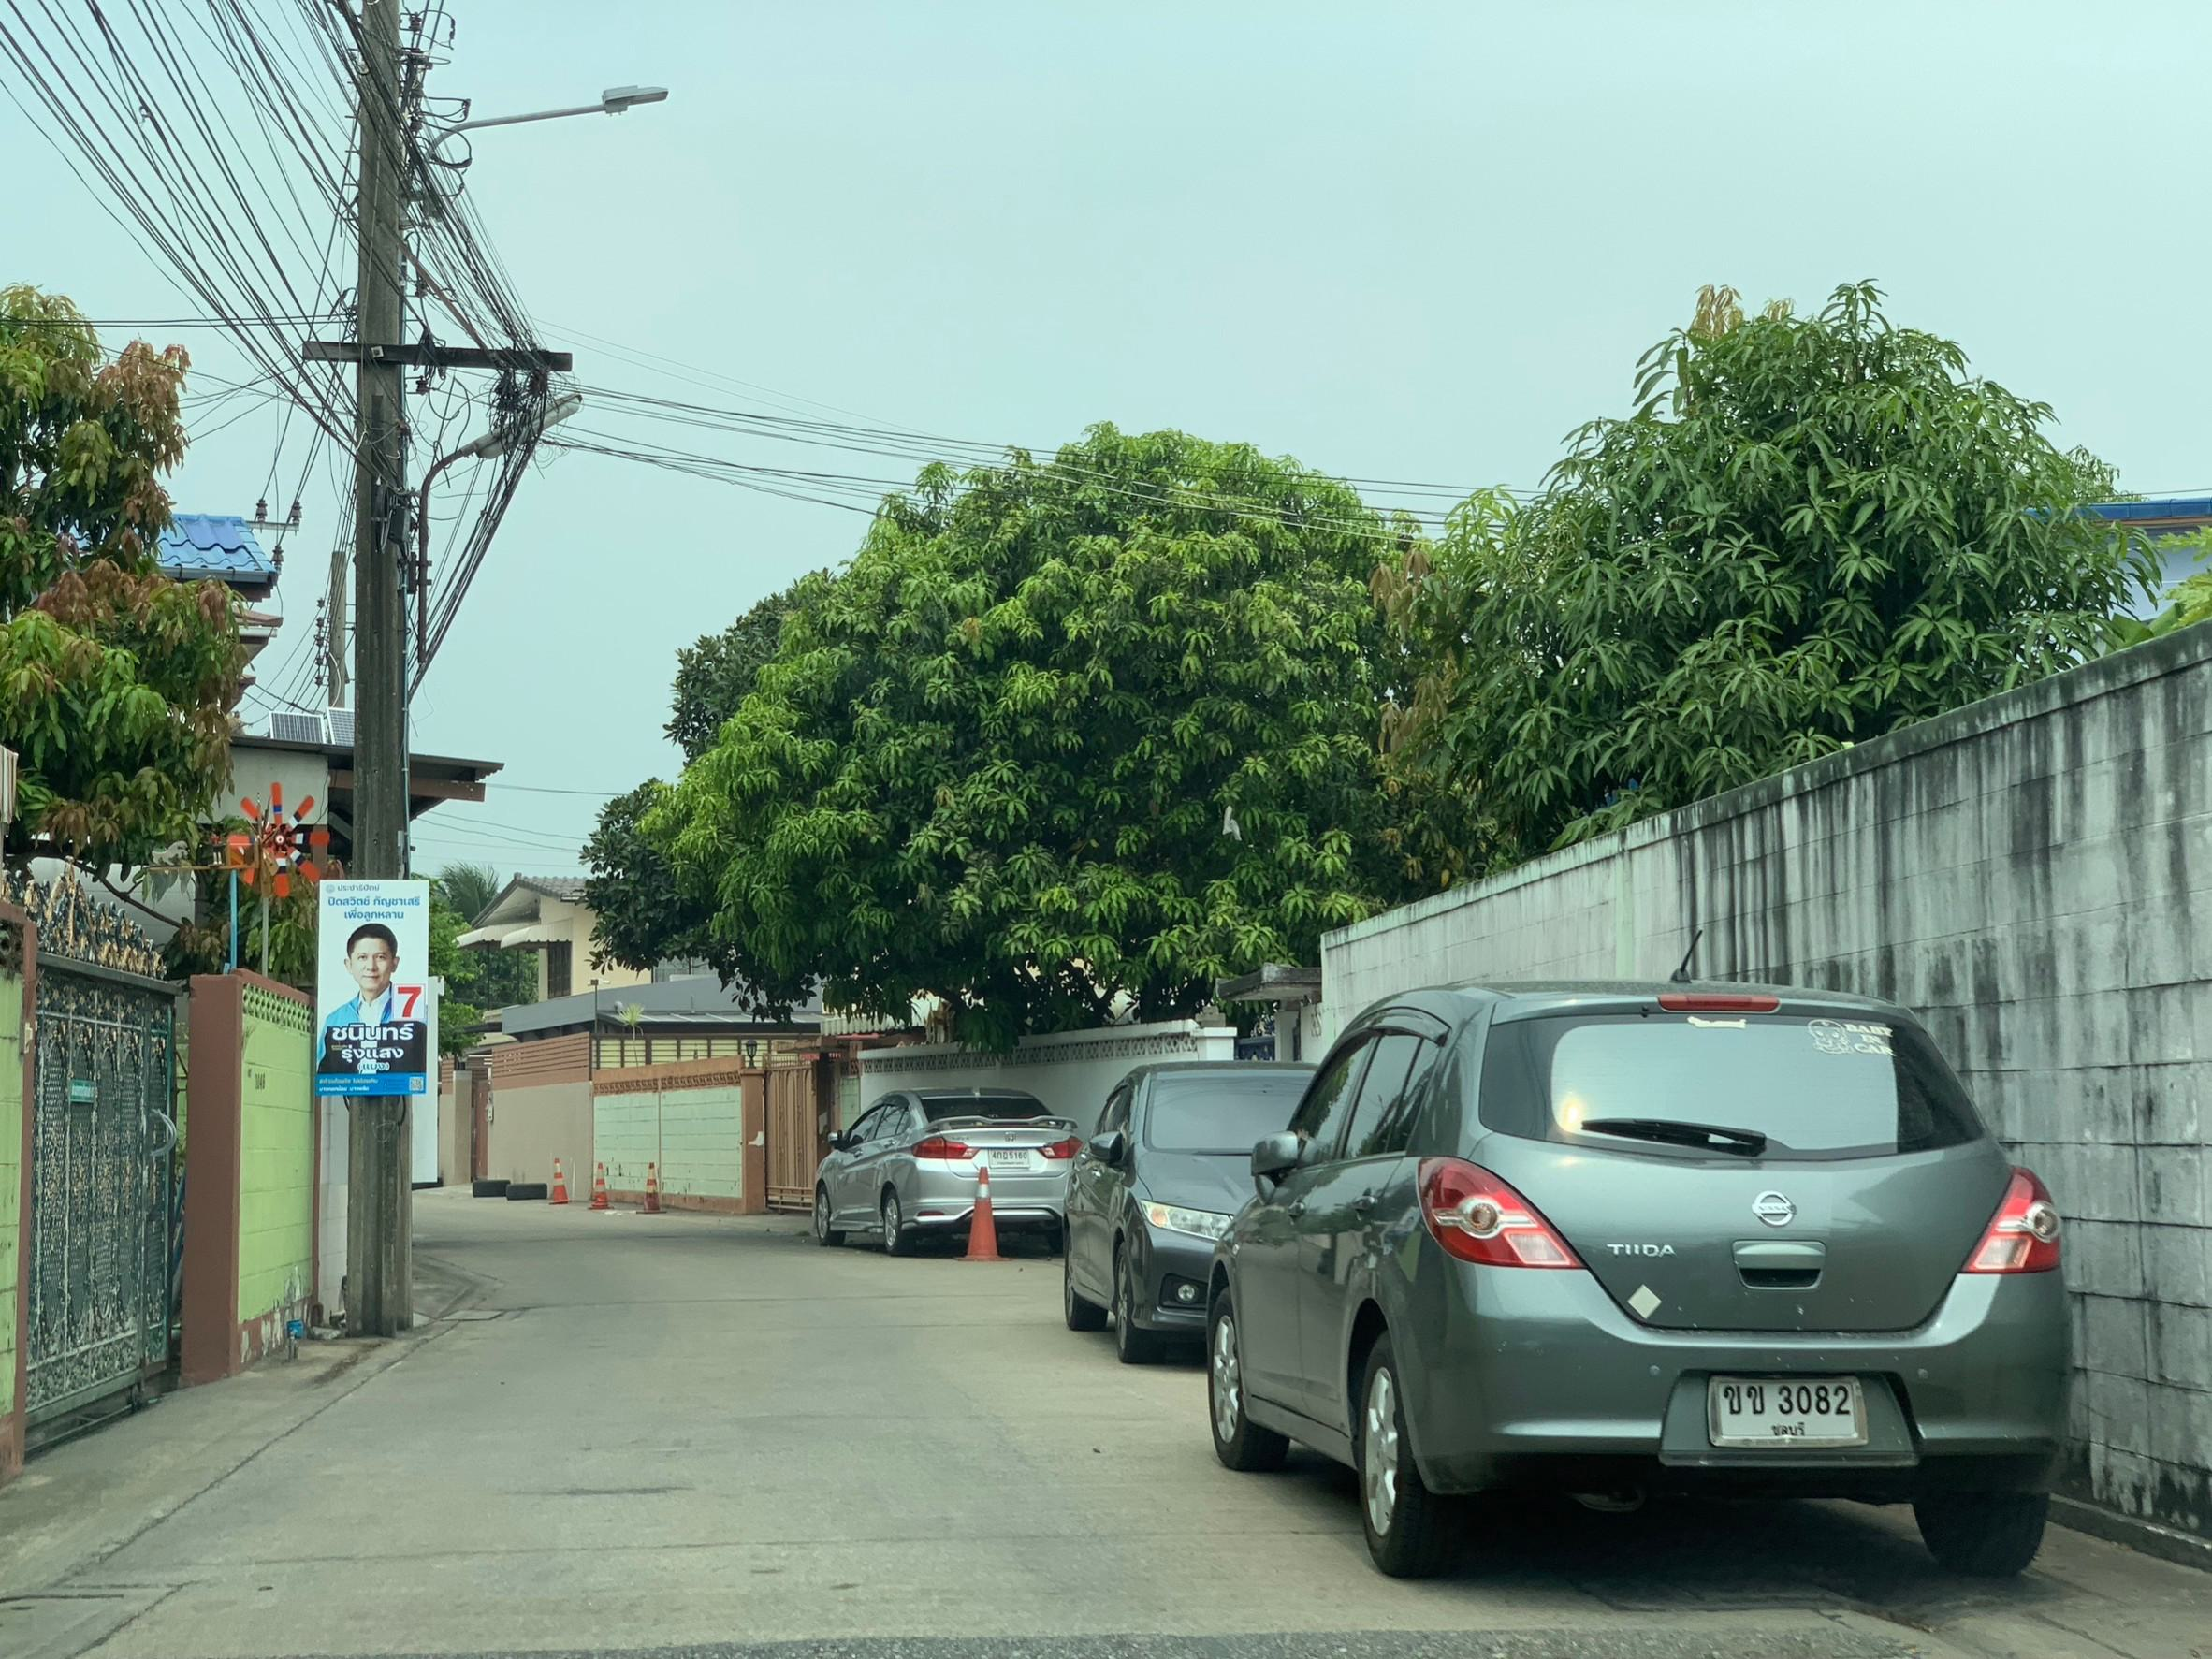Banner: (307, 870, 435, 1100)
